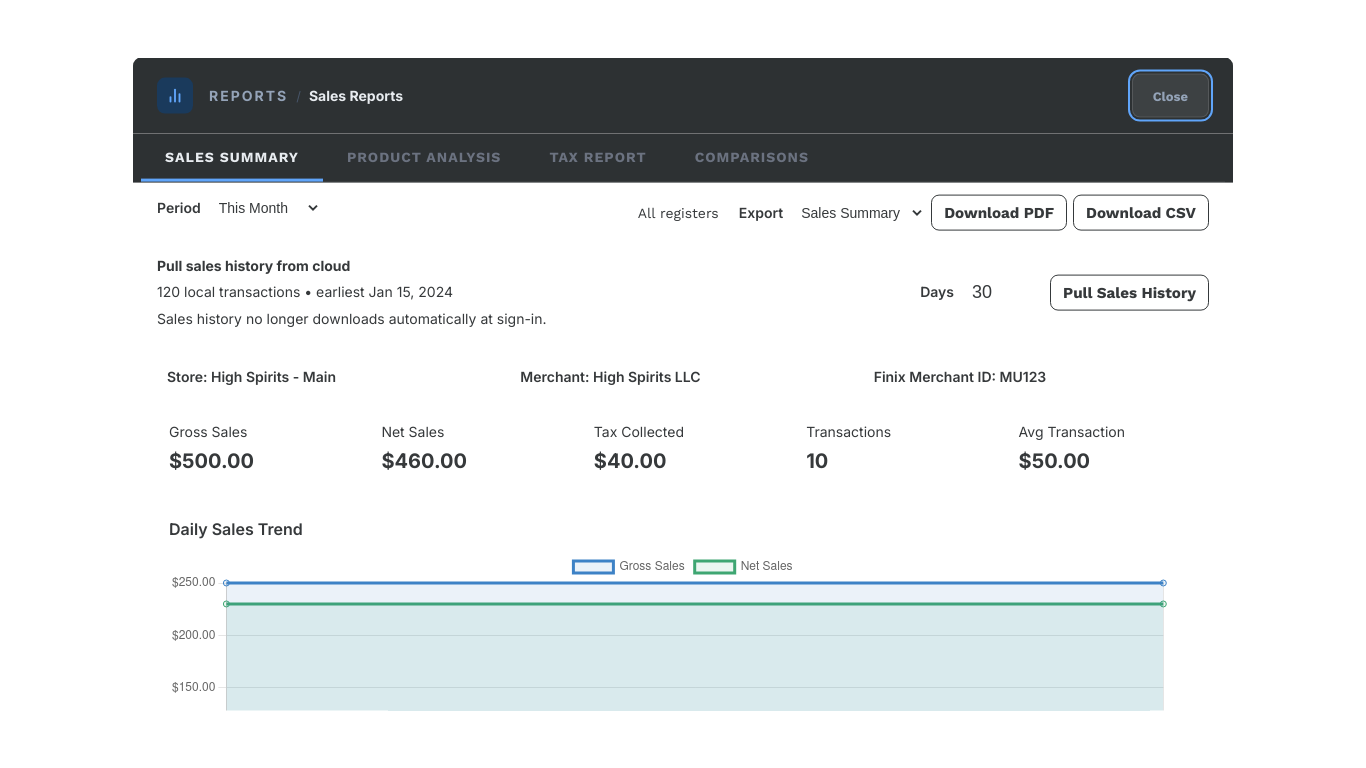
it: ReportsModal › updates comparison grouping when a new granularity is selected
Click the tab "Comparisons": coordinates (752, 158) [671,134,833,182]
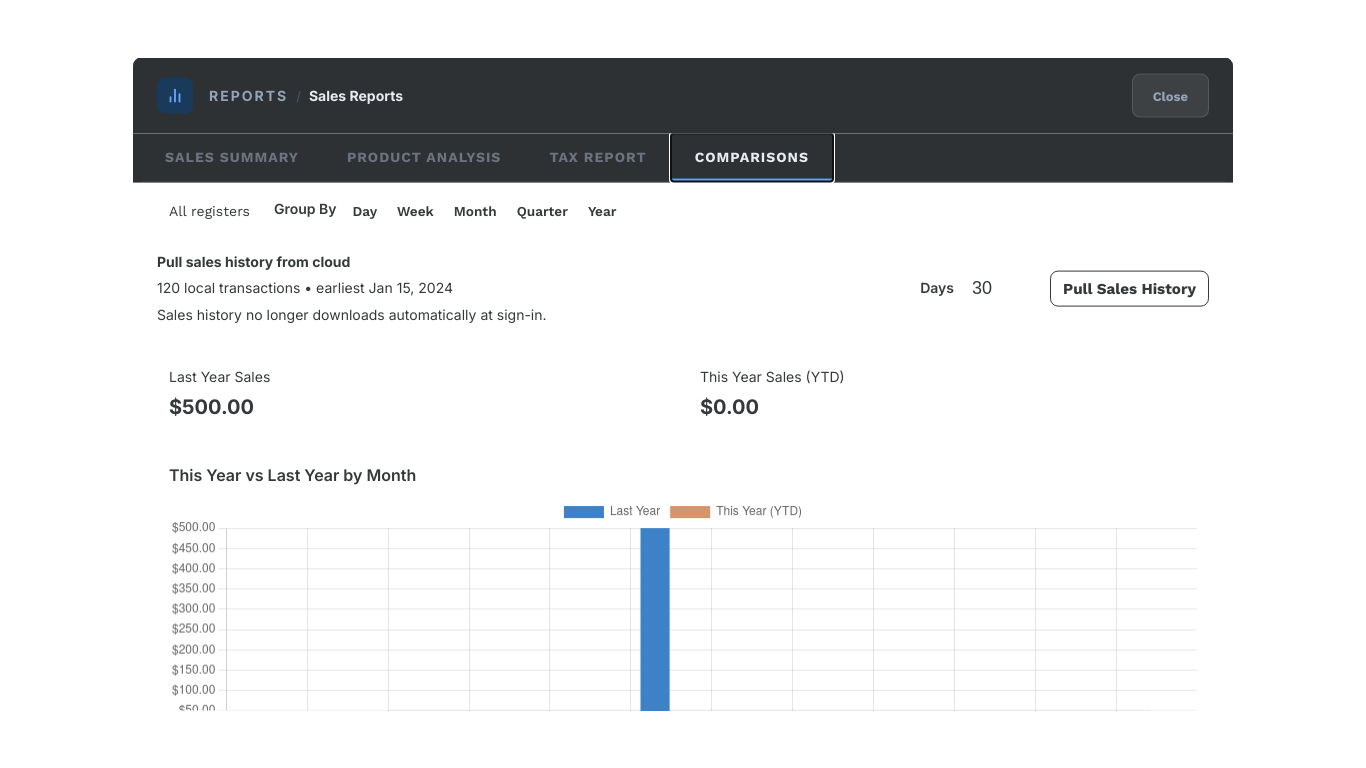
Expected: the heading "This Year vs Last Year by Month" is shown, [169,464,416,484]
Click the radio button with aria-label "Group by quarter": coordinates (542, 211) [507,197,578,225]
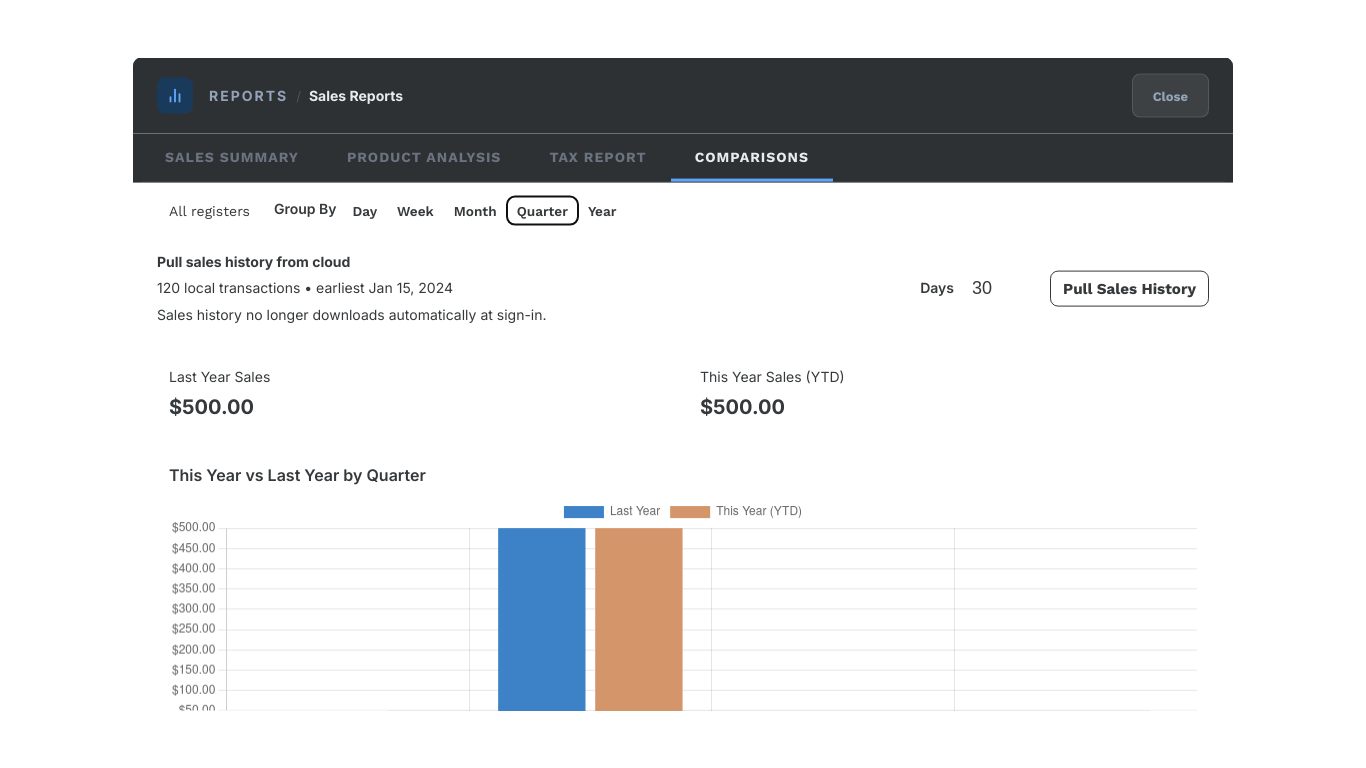
Expected: the heading "This Year vs Last Year by Quarter" is shown, [169,464,426,484]
